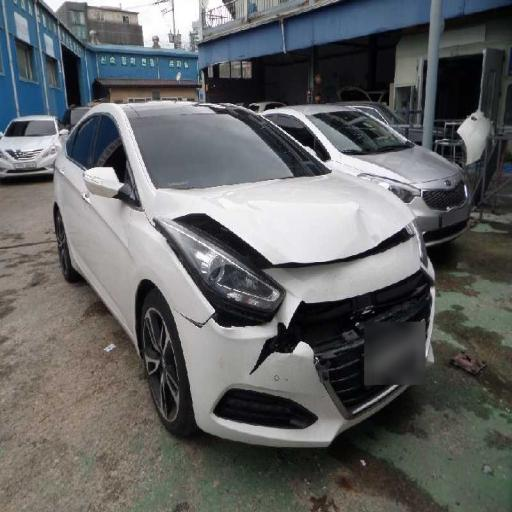broken: (167, 186, 418, 390)
